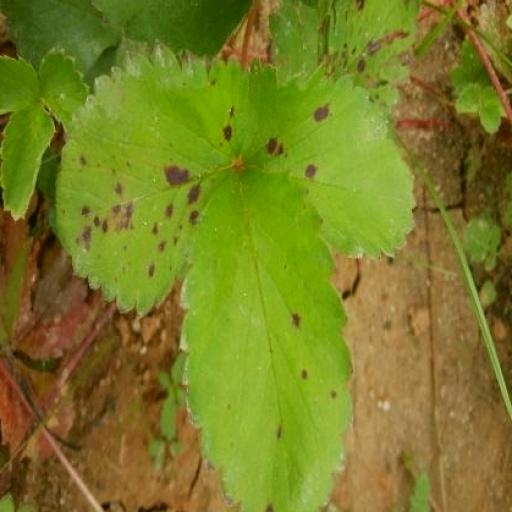Leaf Spot: (158, 0, 335, 348), (262, 195, 457, 473), (95, 251, 271, 455), (91, 399, 245, 511)
